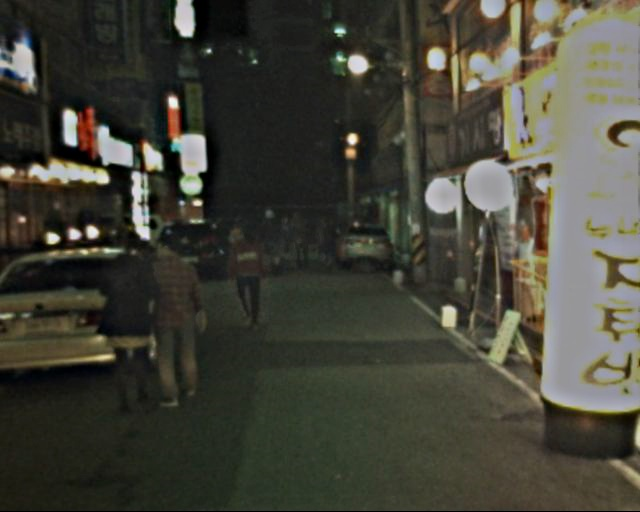person: (145, 227, 212, 415), (97, 229, 162, 419), (226, 223, 269, 331), (258, 201, 288, 281), (230, 216, 262, 288), (286, 212, 309, 279), (314, 215, 337, 277)
